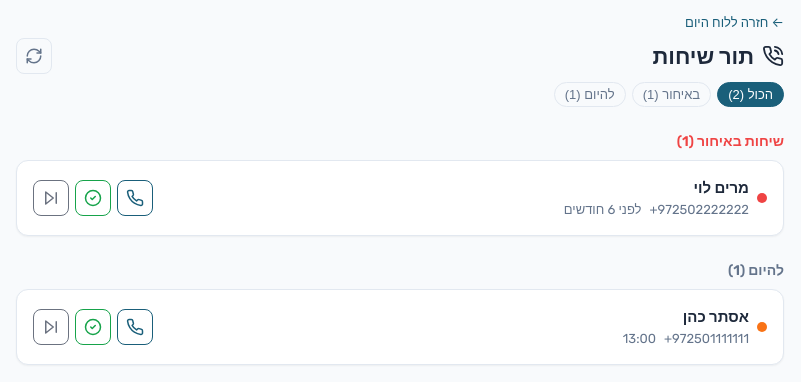
Test: CallsTodayPage › filter chip 'להיום' hides overdue rows
Expected: the text "אסתר כהן" is shown, [683,308,749,326]
Click the tab "להיום (1)" at (590, 94), box [554,82,626,107]
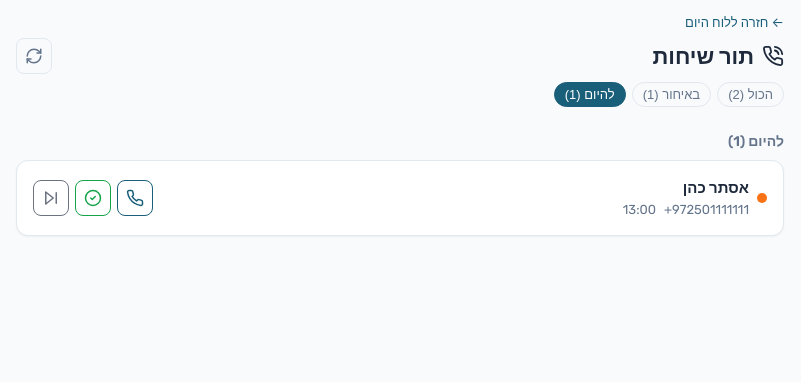
Expected: the text "אסתר כהן" is shown, [683,179,749,197]
Expected: the text "מרים לוי" is gone
